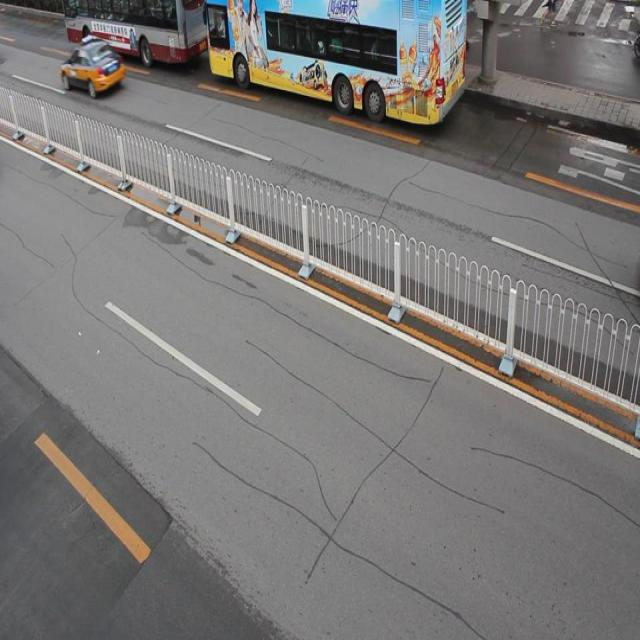car: (61, 38, 125, 96)
van: (207, 1, 467, 121), (65, 1, 206, 64)
